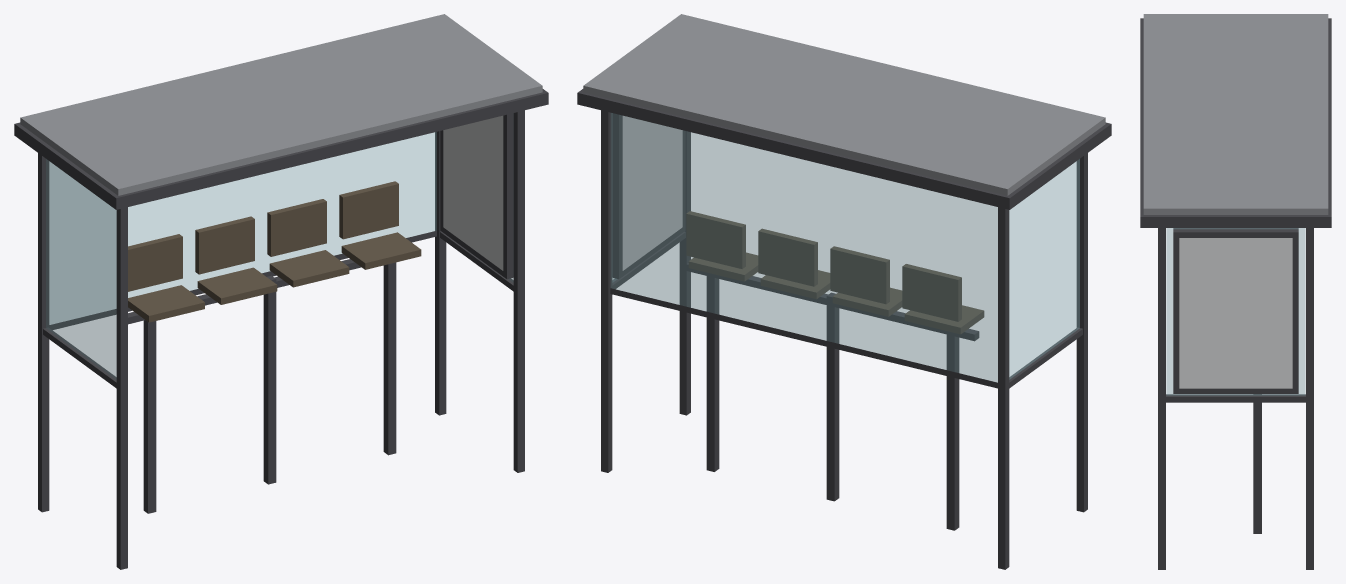
Rendered from bus_stop.fbx.
The picture shows the model from 3 angles, left to right: view 1: azimuth 30°, elevation 25°; view 2: azimuth 150°, elevation 25°; view 3: azimuth 270°, elevation 25°; orthographic projection. The views are drawn at different scales.
Visible parts, largest first — view 1: bus_stop; view 2: bus_stop; view 3: bus_stop.
Part boxes in pixels (x1,y1,x2,y2): bus_stop: (14,14,548,569); bus_stop: (577,14,1111,569); bus_stop: (1140,14,1331,569).
Size of the model in its own units: 5.4 by 4.64 by 2.2.
